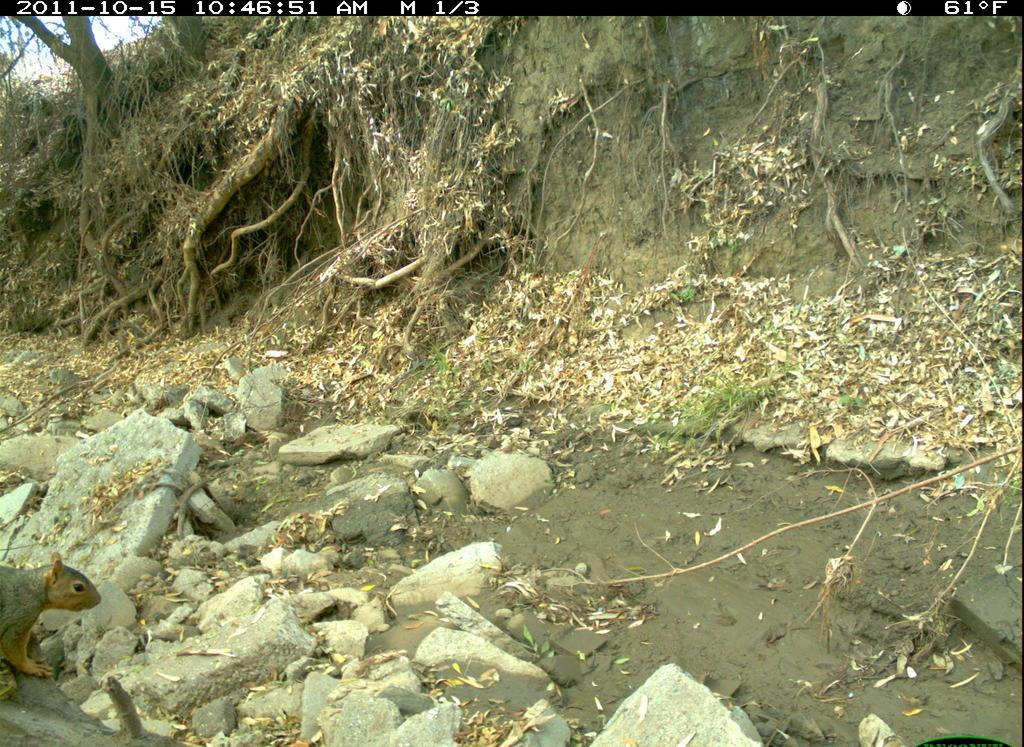squirrel: (6, 550, 103, 679)
